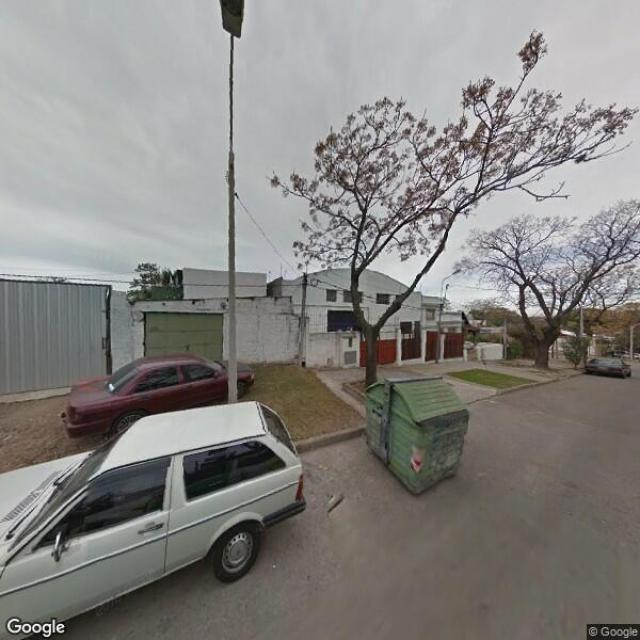garbage container: (352, 365, 478, 509)
